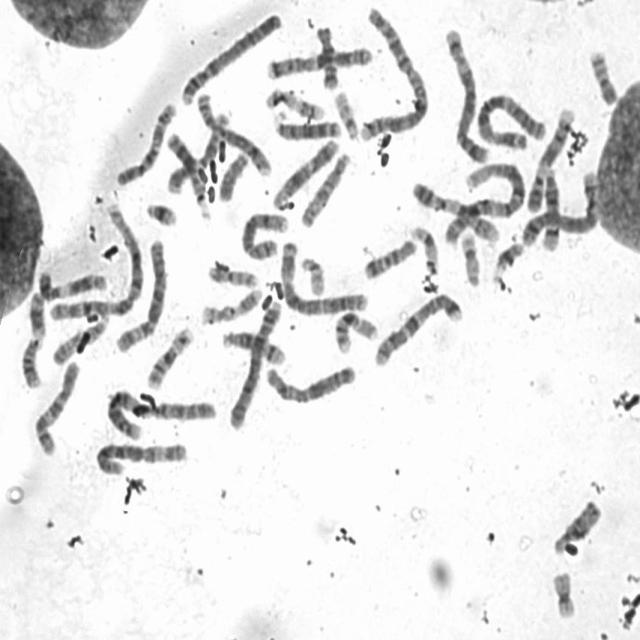A1: (44, 198, 146, 324), (441, 157, 529, 247)
A2: (354, 4, 430, 142), (100, 384, 216, 442)
A3: (277, 235, 372, 316), (473, 88, 548, 150)
B4: (177, 6, 285, 107), (226, 296, 284, 432)
B5: (440, 23, 490, 165), (519, 164, 602, 248)
C10: (113, 97, 179, 189), (30, 355, 82, 458)
C11: (18, 286, 47, 390), (34, 265, 109, 302)
C12: (164, 107, 234, 195), (269, 133, 342, 211)
C6: (113, 233, 170, 354), (92, 435, 190, 478)
C7: (370, 287, 466, 369), (263, 40, 375, 80)
C8: (193, 88, 273, 179), (237, 206, 290, 261)
C9: (409, 176, 504, 243), (525, 103, 576, 214)
D13: (163, 129, 212, 220), (272, 110, 343, 141)
D14: (218, 326, 287, 366), (538, 162, 562, 252)
D15: (297, 148, 352, 229), (550, 495, 604, 557)
E16: (143, 322, 196, 392), (330, 308, 380, 354)
E17: (198, 283, 265, 326), (263, 82, 329, 122)
E18: (360, 234, 419, 281), (312, 21, 341, 91)
F19: (548, 565, 578, 621), (458, 226, 483, 288)
F20: (586, 44, 620, 107), (205, 258, 259, 290)
G21: (491, 236, 526, 276), (142, 196, 180, 228)
G22: (331, 86, 361, 142), (297, 251, 327, 297)
X: (263, 359, 359, 405)
Y: (215, 148, 250, 203)
